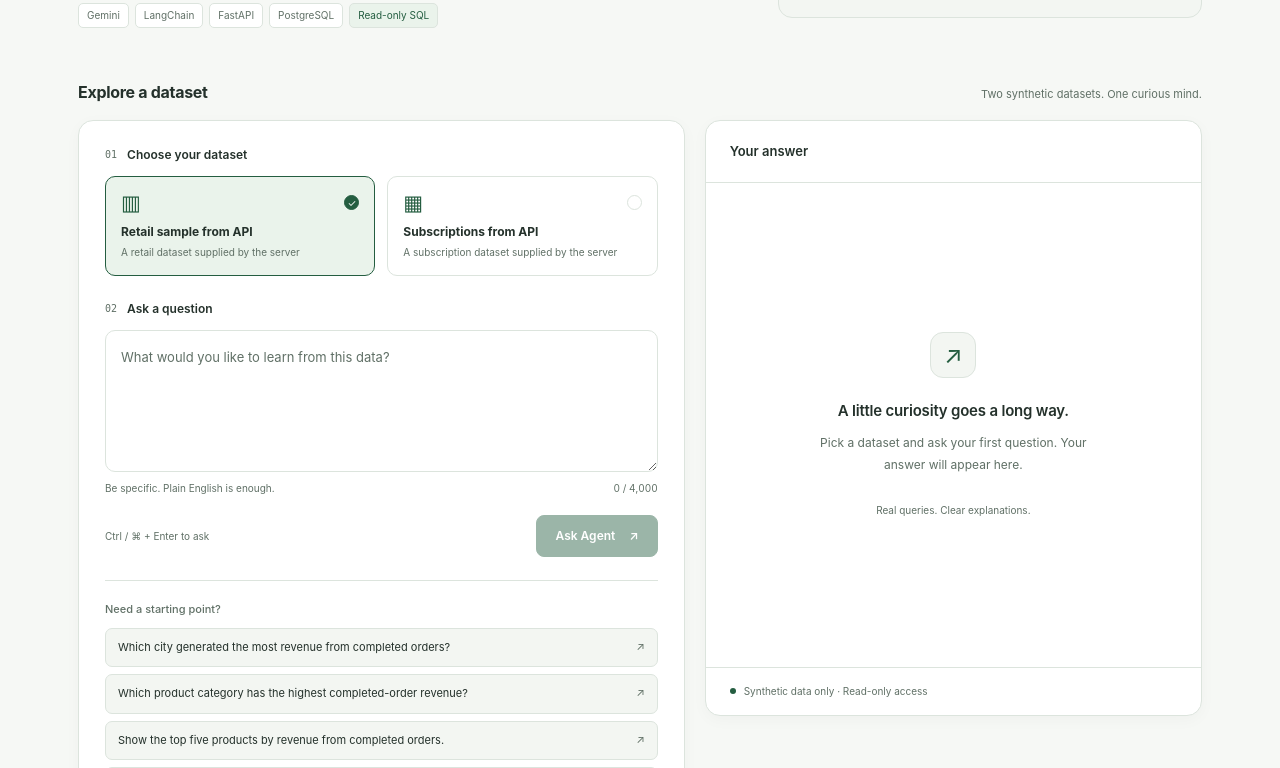
public analyst workspace › shows honest loading feedback and disables duplicate requests
(page scrolled)
Check: the radio button labelled "Retail sample" is enabled, box [105,176,375,276]
Type "Count" into the text box labelled "02 Ask a question". click: point(381, 401)
box: [105,330,658,472]
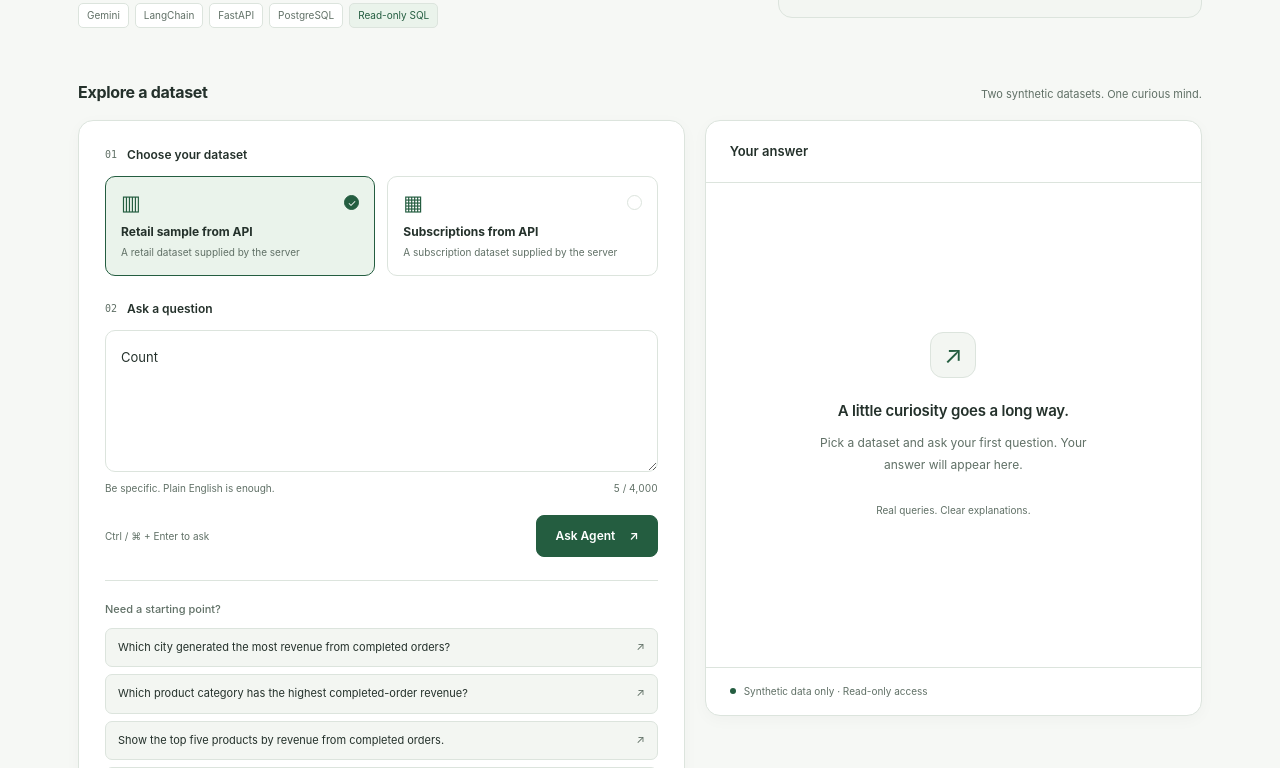
Click the button "Ask Agent ↗". click: point(597, 536)
box: [536,515,658,557]
Wait 10000 ms
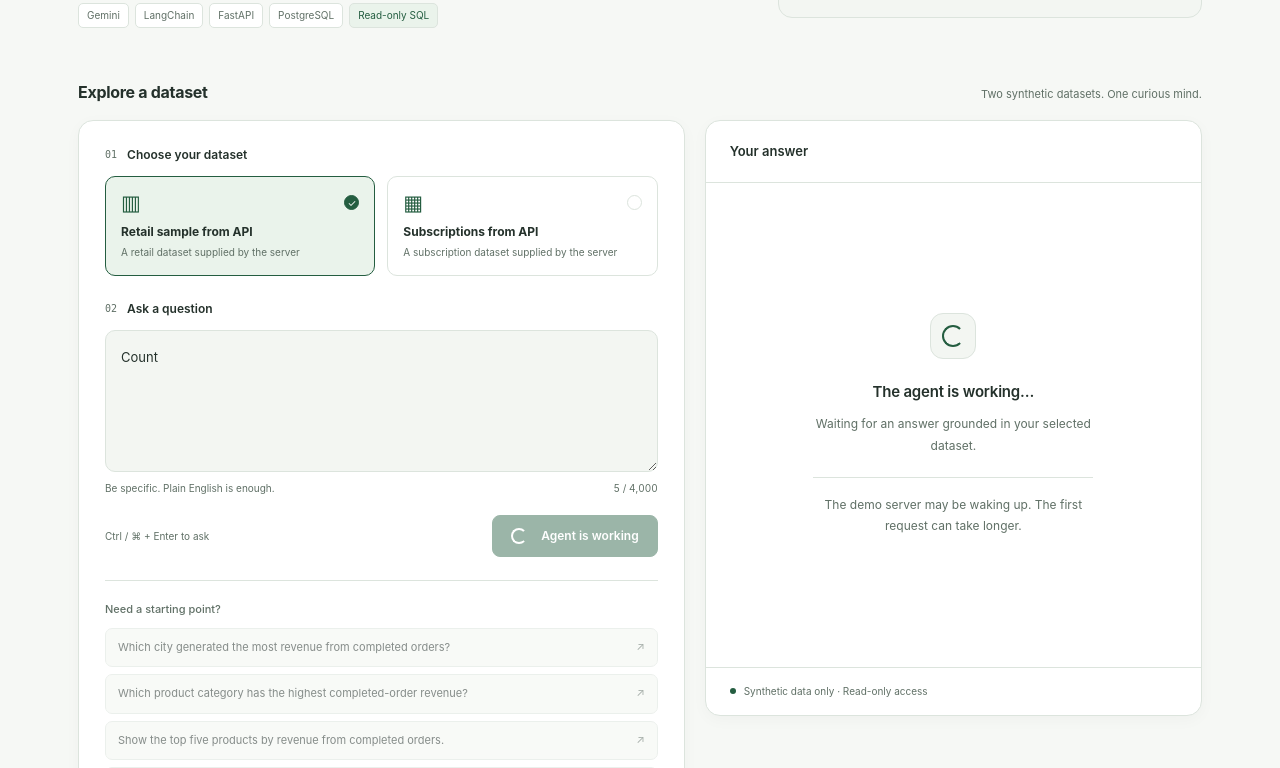
Check: the message shows "The agent is working…", box [872,382,1034,401]
Check: the button "Agent is working" is disabled, box [492,515,658,557]
Check: the text "The demo server may be waking up" is shown, box [825,497,1082,533]
